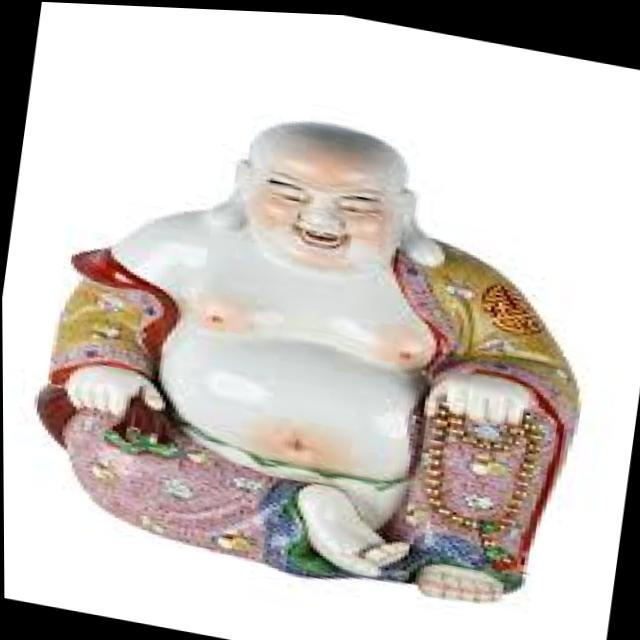Smiling Buddha: (62, 82, 555, 586)
